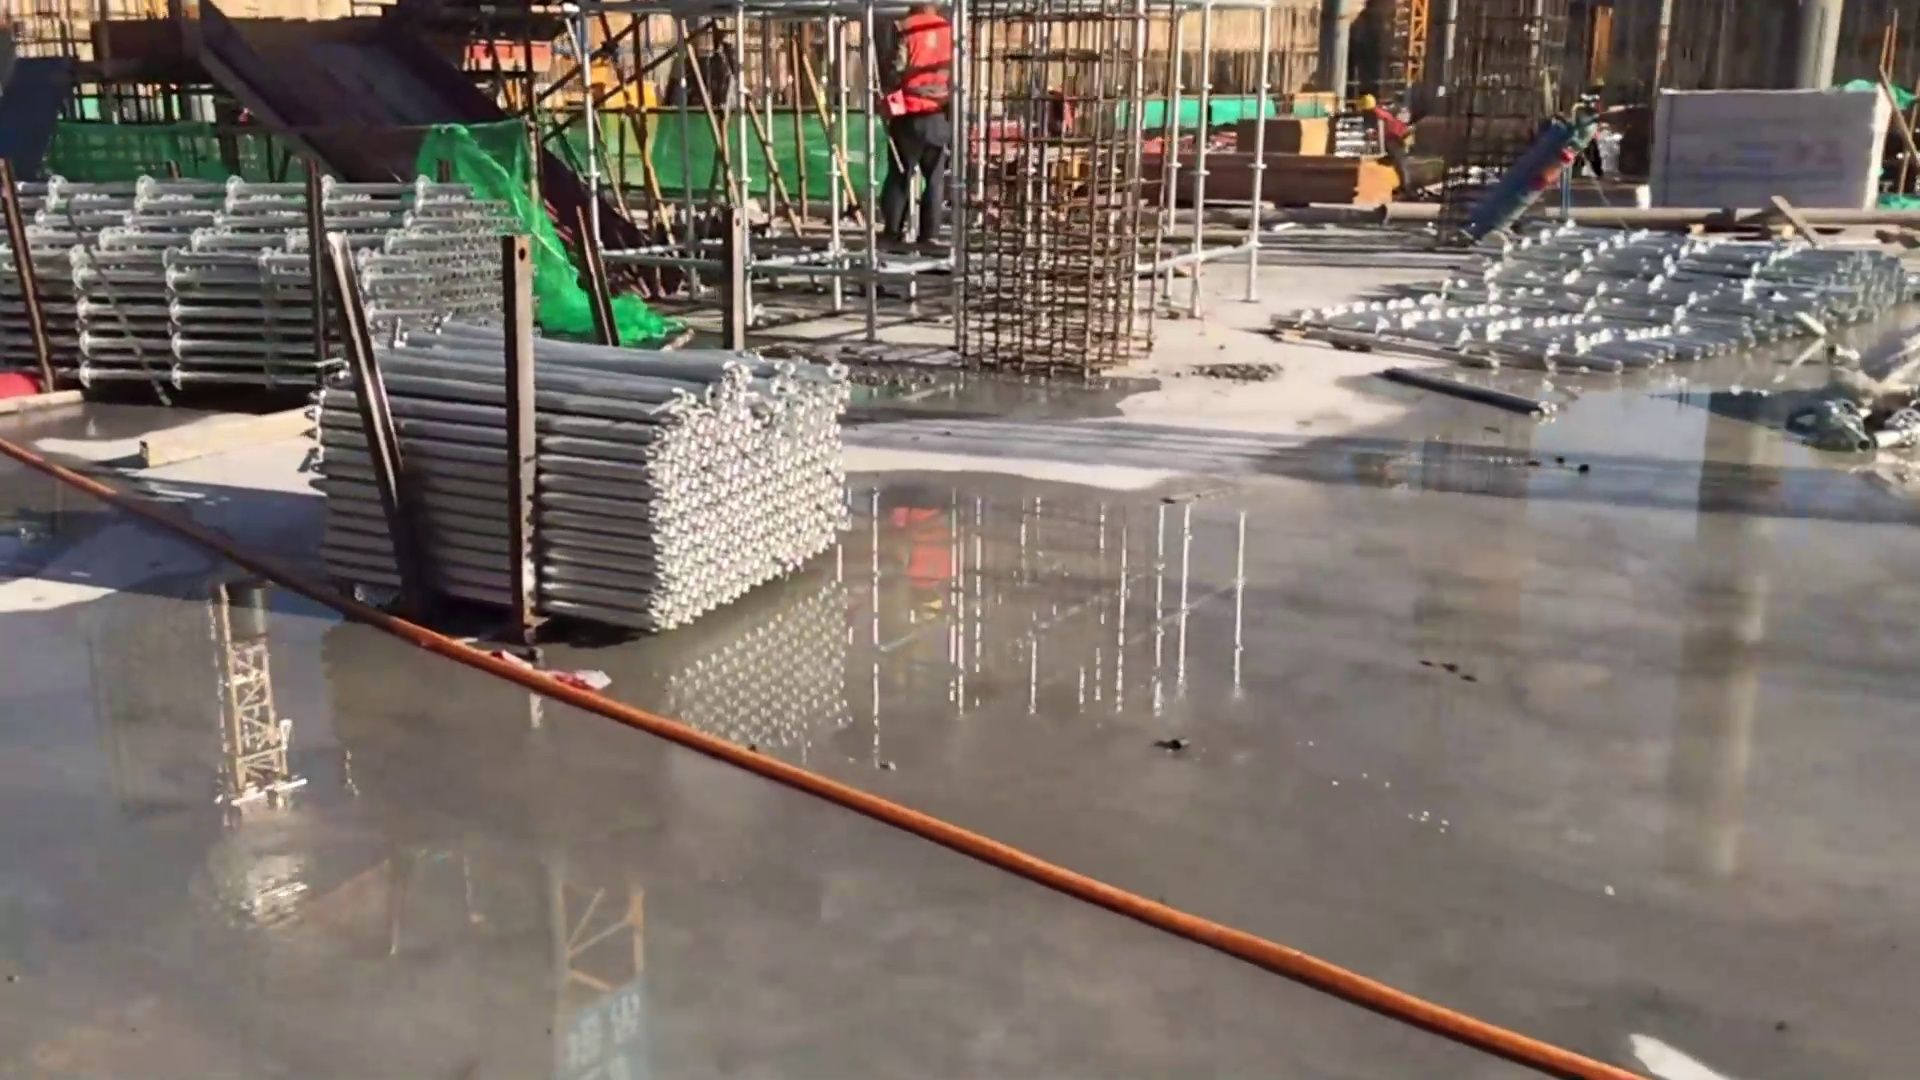person: (887, 1, 950, 258), (1356, 92, 1415, 203)
scaffold: (317, 324, 854, 638), (11, 179, 533, 388), (1336, 226, 1920, 373)
vest: (886, 7, 957, 117)
